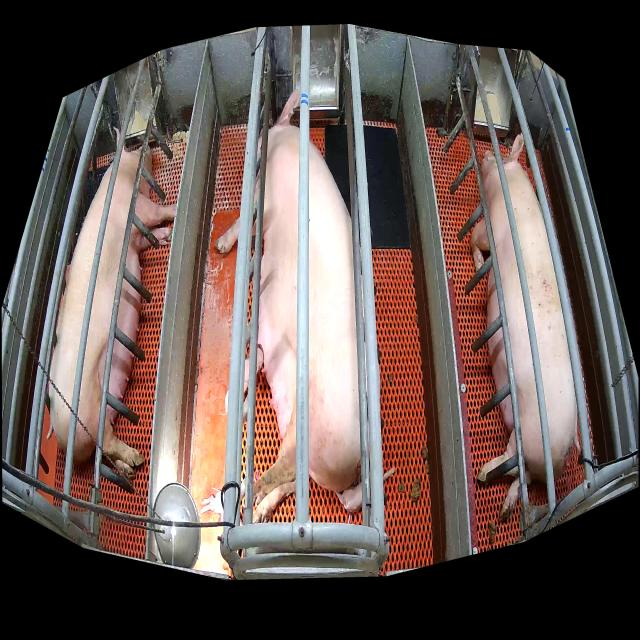pig: (215, 88, 361, 523), (48, 125, 176, 479), (471, 130, 580, 519), (224, 349, 262, 414), (336, 483, 362, 513), (200, 486, 224, 515)
